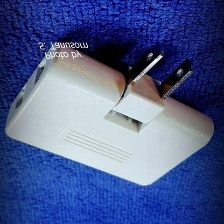three_eye_plug: (3, 31, 218, 191)
